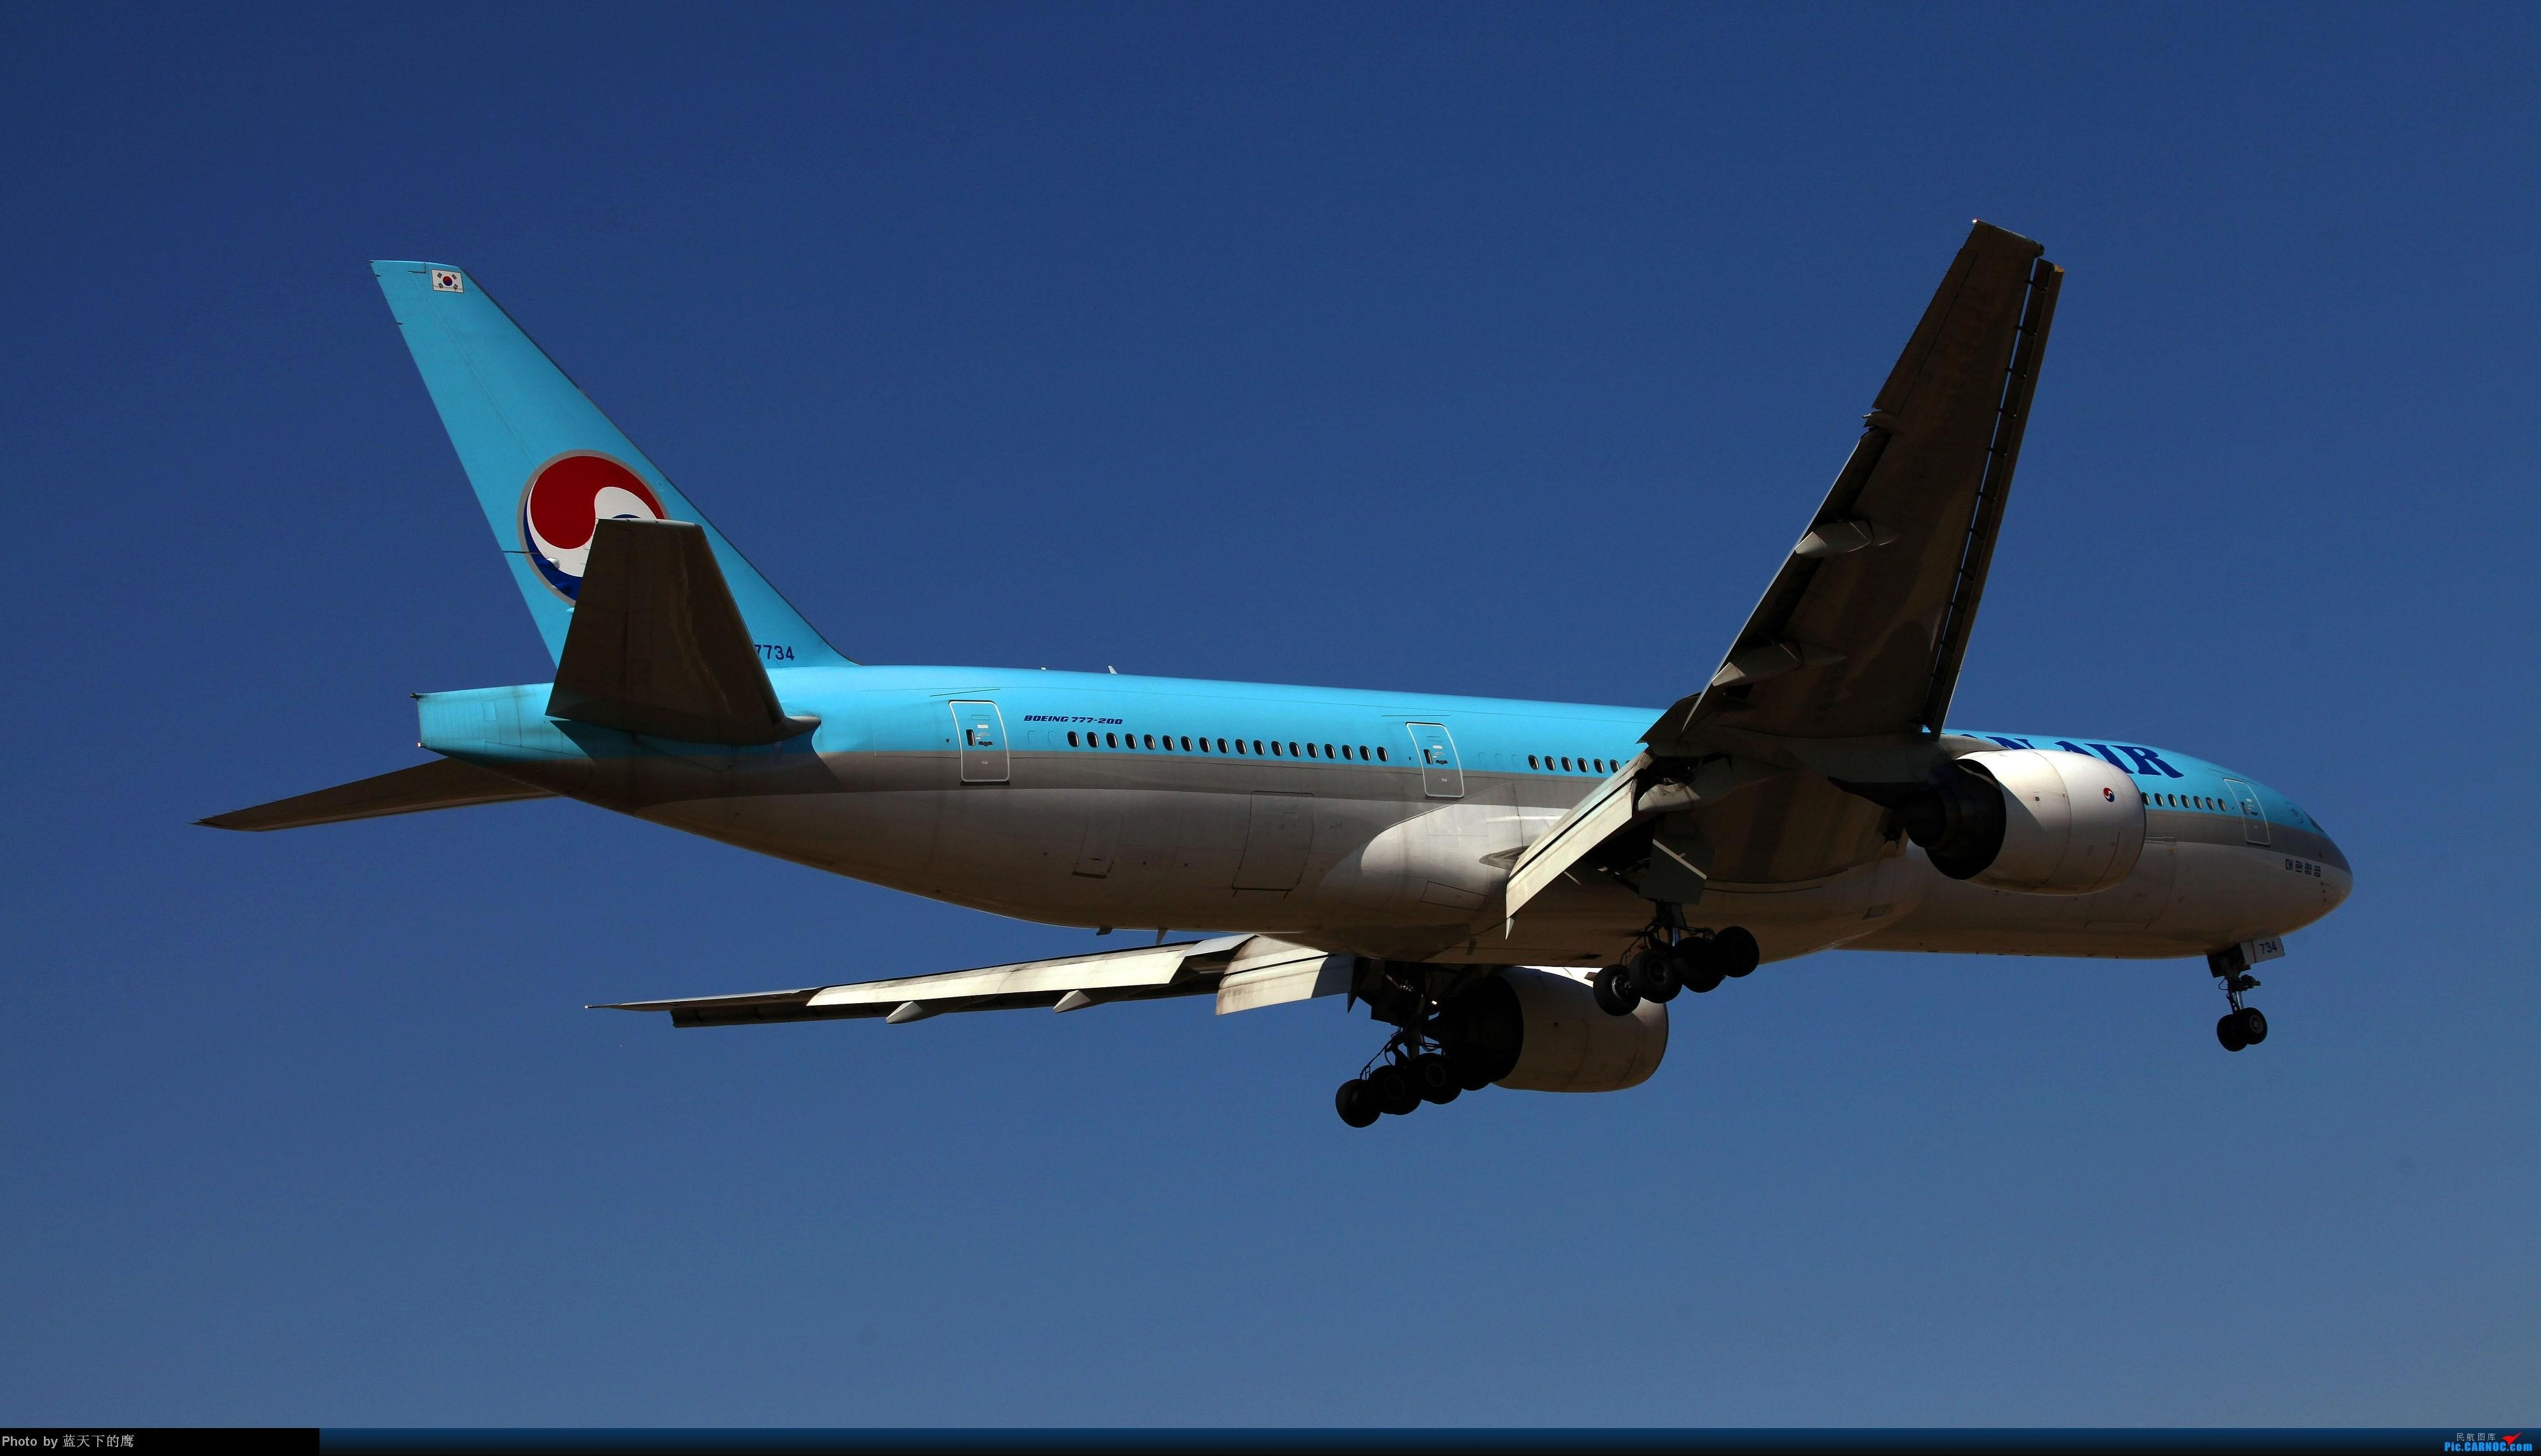airplane: (188, 222, 2356, 1124)
